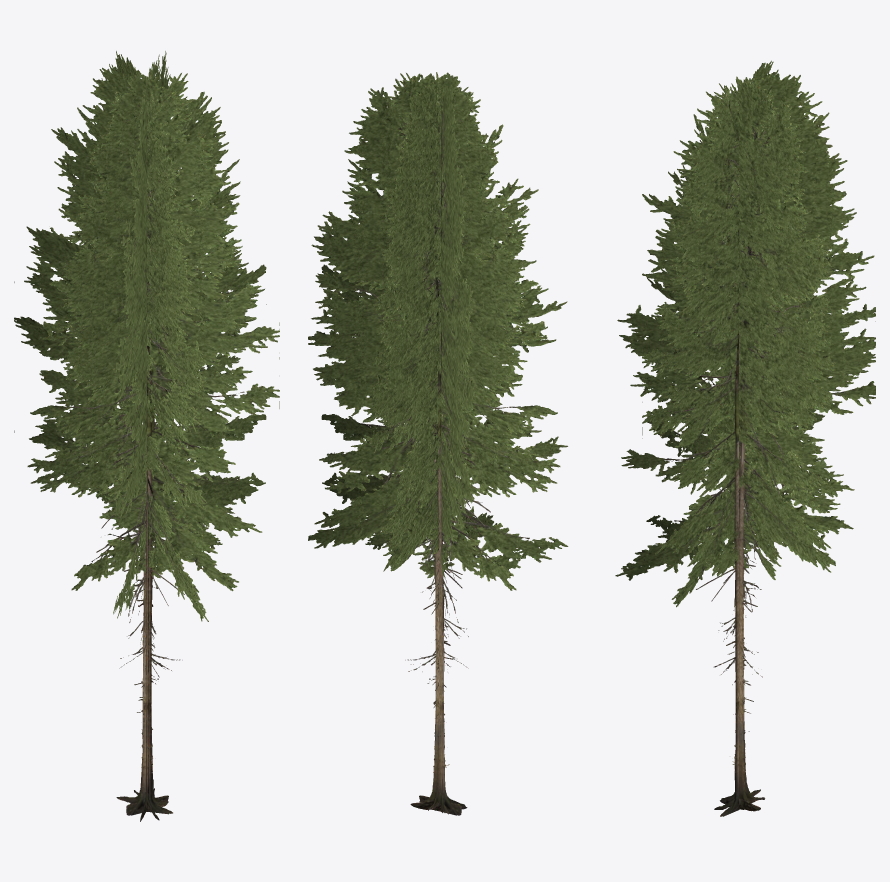
Rendered from tree_fir_lod0.glb.
3 renders of one model, left to right at view 1: azimuth 30°, elevation 25°; view 2: azimuth 150°, elevation 25°; view 3: azimuth 270°, elevation 25°, orthographic.
Visible parts, largest first — view 1: tree_fir; view 2: tree_fir; view 3: tree_fir.
Part boxes in pixels (<box>): tree_fir: <box>14,51,279,821</box>; tree_fir: <box>308,72,568,815</box>; tree_fir: <box>615,60,875,816</box>.
Bounding box in the file's own units: 6.37 × 18.93 × 6.37.
1 material, 1 textured.
